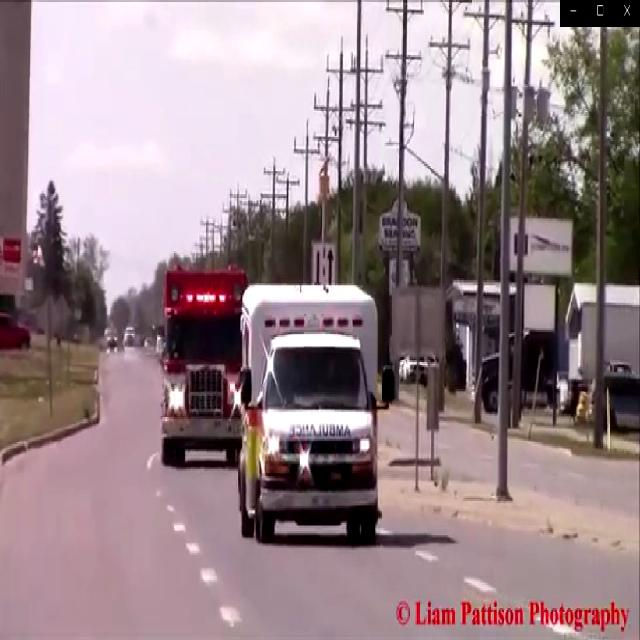emergency: (238, 272, 396, 554), (159, 256, 249, 474)
